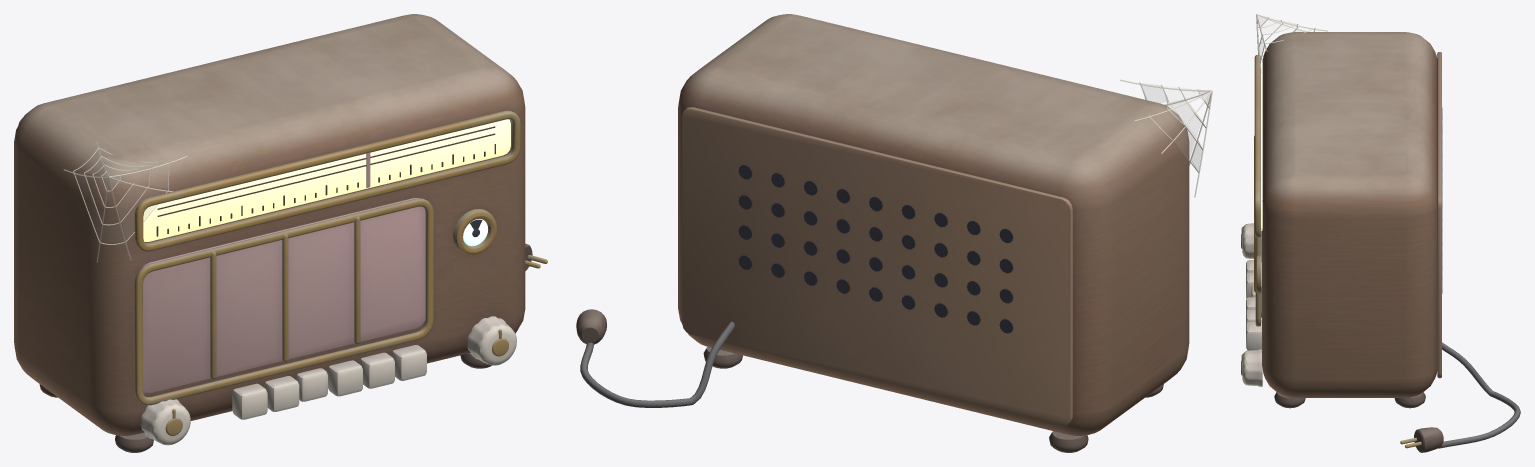
The model's file is old-radio.glb.
3 views of the same model, side by side, from view 1: azimuth 30°, elevation 25°; view 2: azimuth 150°, elevation 25°; view 3: azimuth 270°, elevation 25° (orthographic). The views are drawn at different scales.
Visible parts, largest first — view 1: old-radio_body, old-radio_dial_glow, old-radio_web; view 2: old-radio_body, old-radio_web; view 3: old-radio_body, old-radio_web, old-radio_dial_glow.
Part boxes in pixels (box(x1,y1,x2,y2)): old-radio_body: box(14, 14, 547, 452); old-radio_dial_glow: box(143, 119, 510, 246); old-radio_web: box(63, 141, 187, 262); old-radio_body: box(576, 14, 1189, 452); old-radio_web: box(1120, 79, 1212, 197); old-radio_body: box(1241, 32, 1520, 452); old-radio_web: box(1256, 14, 1327, 72); old-radio_dial_glow: box(1261, 61, 1262, 286).
Bounding box in the file's own units: 0.5563 × 0.2966 × 0.317.
8 materials, 1 textured.
